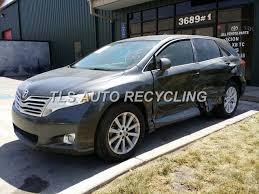doorouter-dent: (152, 72, 196, 121), (199, 67, 230, 109)
